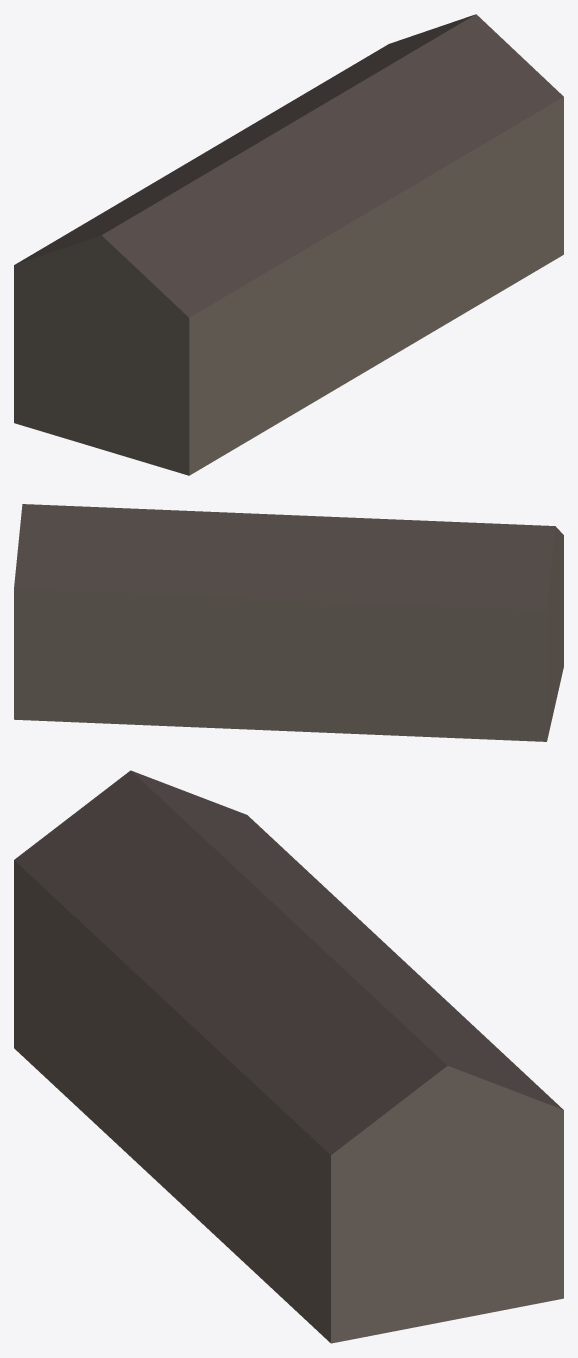
3 views of the same model, one above another, from view 1: azimuth 30°, elevation 25°; view 2: azimuth 150°, elevation 25°; view 3: azimuth 270°, elevation 25° (orthographic). The views are drawn at different scales.
Parts seen in each view (by area): view 1: HP-w859467683; view 2: HP-w859467683; view 3: HP-w859467683.
Boxes of the visible parts, left/top/right/bottom form: HP-w859467683: left=14, top=14, right=563, bottom=475; HP-w859467683: left=14, top=504, right=563, bottom=741; HP-w859467683: left=14, top=770, right=563, bottom=1343.
Bounding box in the file's own units: 23.27 × 8.14 × 15.89.
